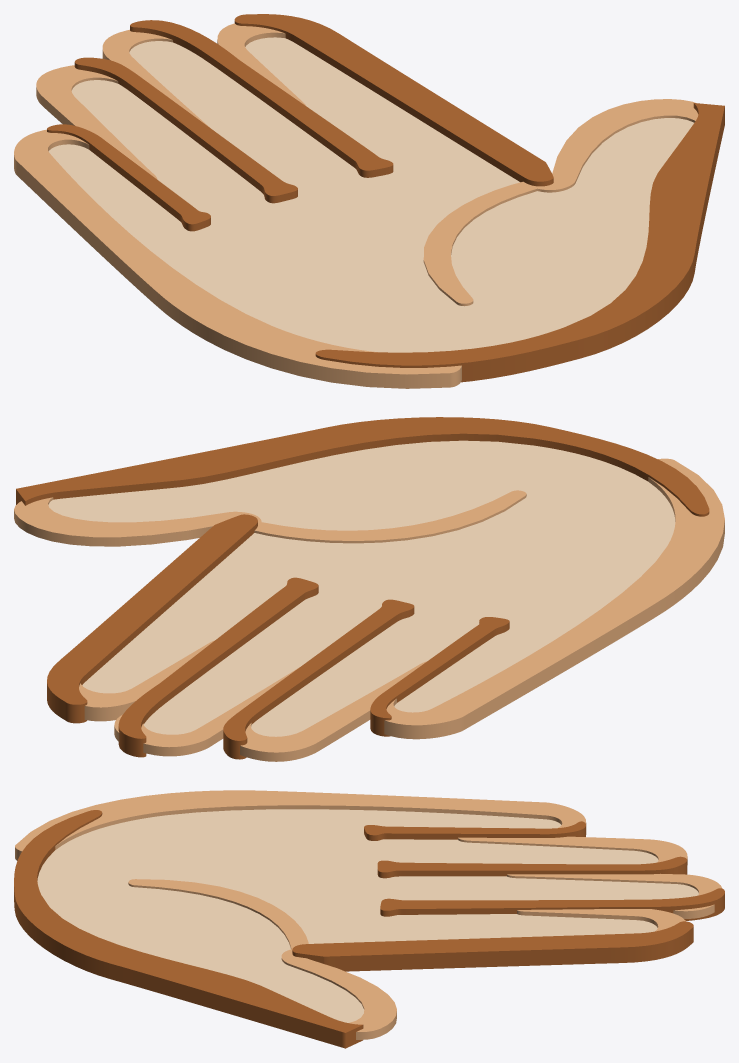
The model's file is emoji_u270b_1f3fb.glb.
The picture shows the model from 3 angles, top to bottom: view 1: azimuth 30°, elevation 25°; view 2: azimuth 150°, elevation 25°; view 3: azimuth 270°, elevation 25°; orthographic projection. The views are drawn at different scales.
Visible parts, largest first — view 1: emoji_u270b_1f3fb; view 2: emoji_u270b_1f3fb; view 3: emoji_u270b_1f3fb.
Part boxes in pixels (bbox=[...]): emoji_u270b_1f3fb: bbox=[14, 14, 724, 388]; emoji_u270b_1f3fb: bbox=[14, 417, 724, 761]; emoji_u270b_1f3fb: bbox=[14, 790, 724, 1048].
Size of the model in its own units: 0.0269 by 0.0008 by 0.033.
